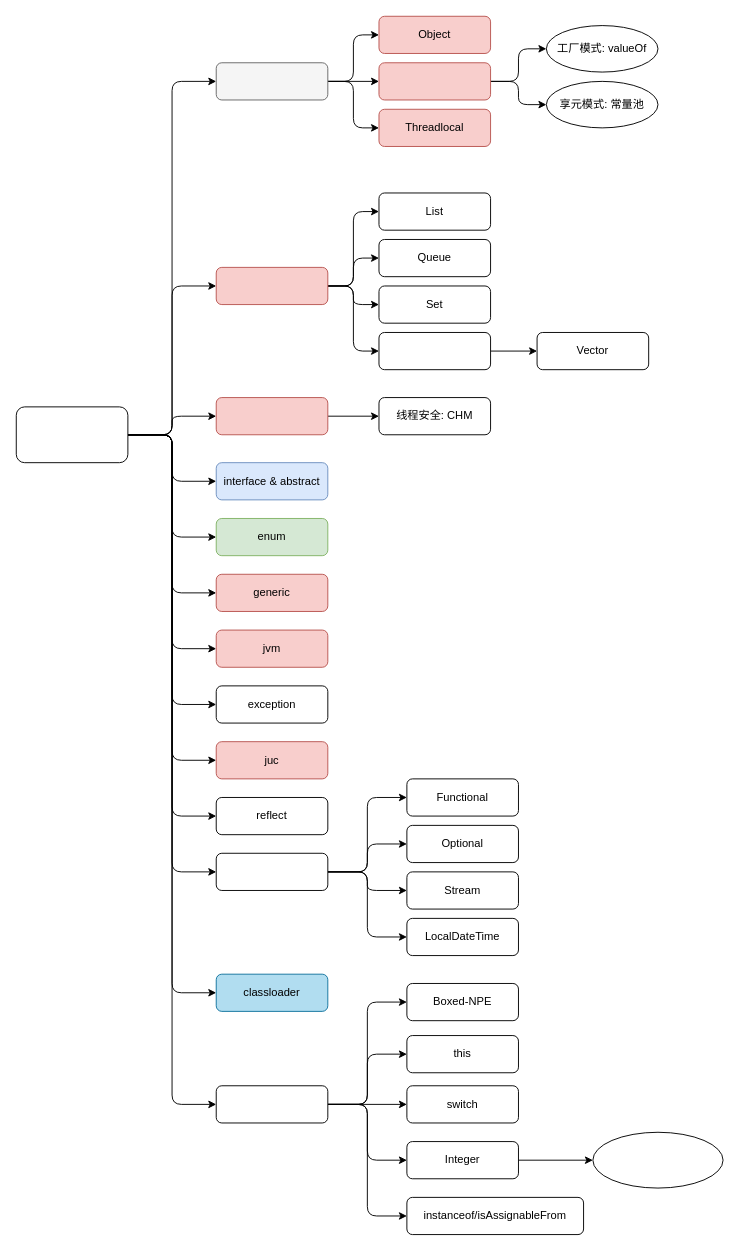
The diagram is 739 pixels wide and 1251 high, and some of its shapes have lost their labels. Each missing label, with the box of its shape:
Collection: (215, 266, 328, 305)
java se: (15, 406, 128, 463)
java8: (215, 852, 328, 890)
Map: (215, 397, 328, 435)
others: (215, 1085, 328, 1123)
Stack: (378, 332, 491, 370)
String: (378, 62, 491, 100)
享元模式 valueOf[IntegerCache]: (592, 1131, 723, 1188)
常见的对象: (215, 62, 328, 100)
